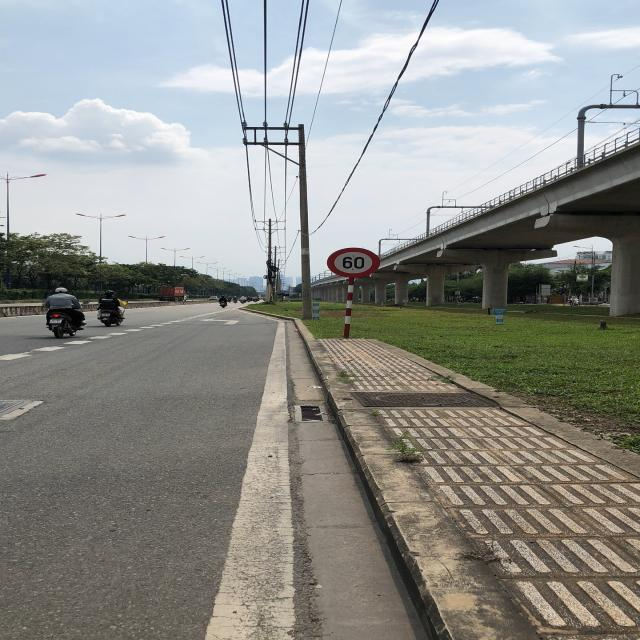Bien bao toc do toi da cho phep: (323, 246, 382, 280)
